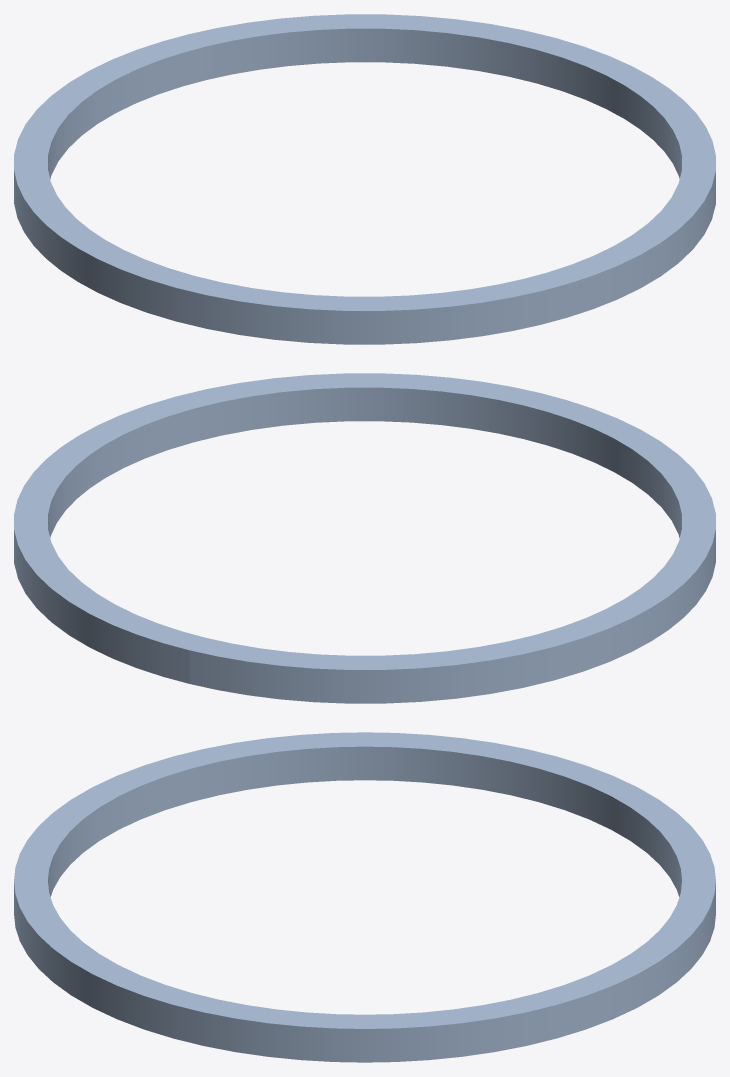
The model's file is portal.obj.
The picture shows the model from 3 angles, top to bottom: view 1: azimuth 30°, elevation 25°; view 2: azimuth 150°, elevation 25°; view 3: azimuth 270°, elevation 25°; orthographic projection.
Size of the model in its own units: 19.82 by 1.05 by 19.82.
